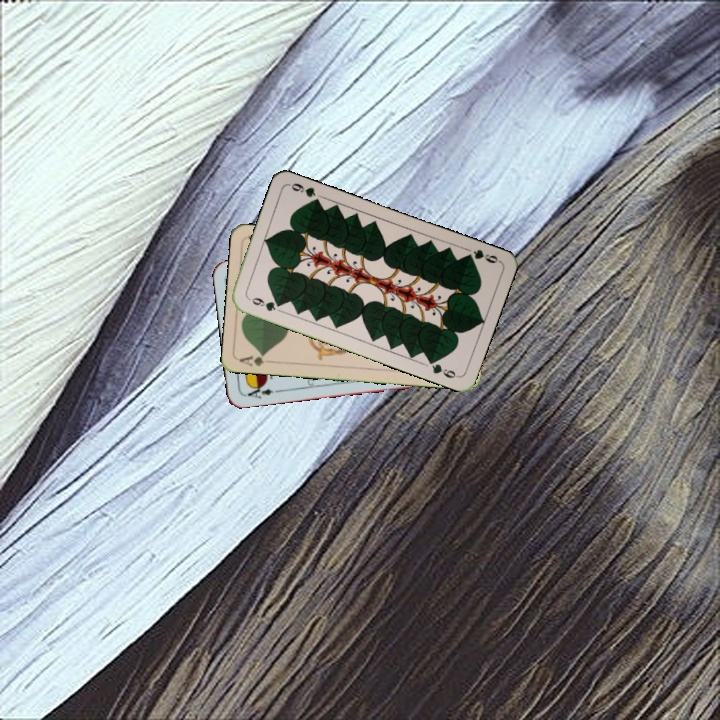EA: (244, 381, 282, 401)
G9: (460, 245, 502, 266), (244, 293, 284, 314)
GA: (236, 350, 277, 369)
